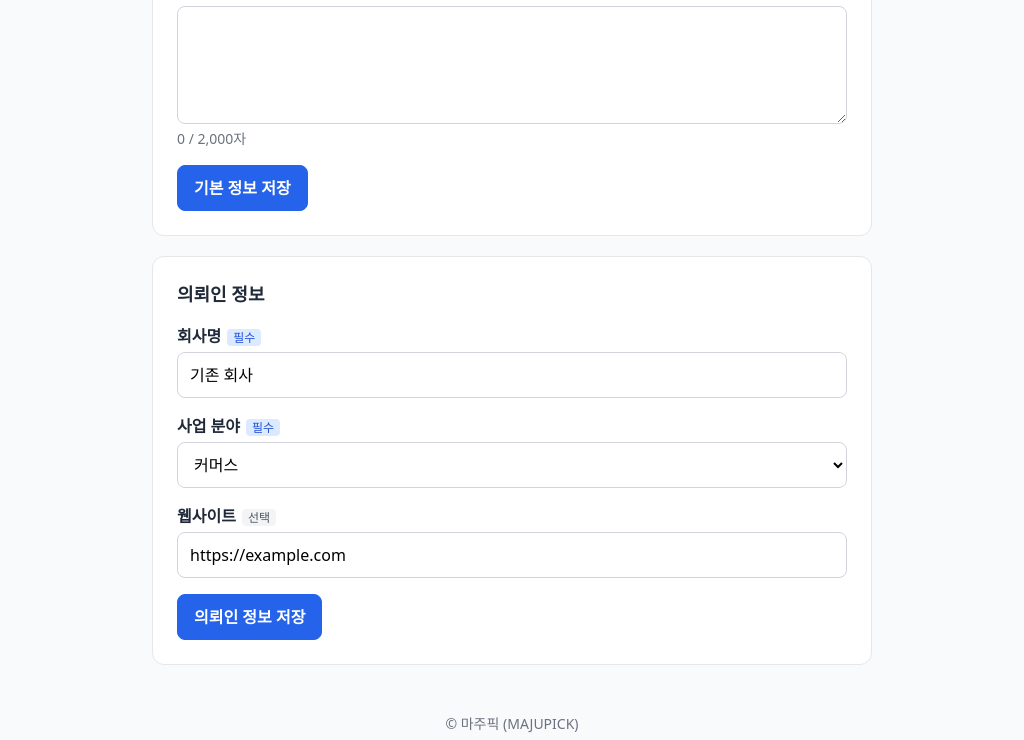
Scenario: client profile form › loads saved values and shows server validation and failure messages
(page scrolled)
Check: the field labelled "회사명" holds "기존 회사", box [177,352,847,398]
Check: the dropdown labelled "사업 분야" shows "커머스", box [177,442,847,488]
Step 1. Click the button "의뢰인 정보 저장" → (250, 617), box [177,594,322,640]
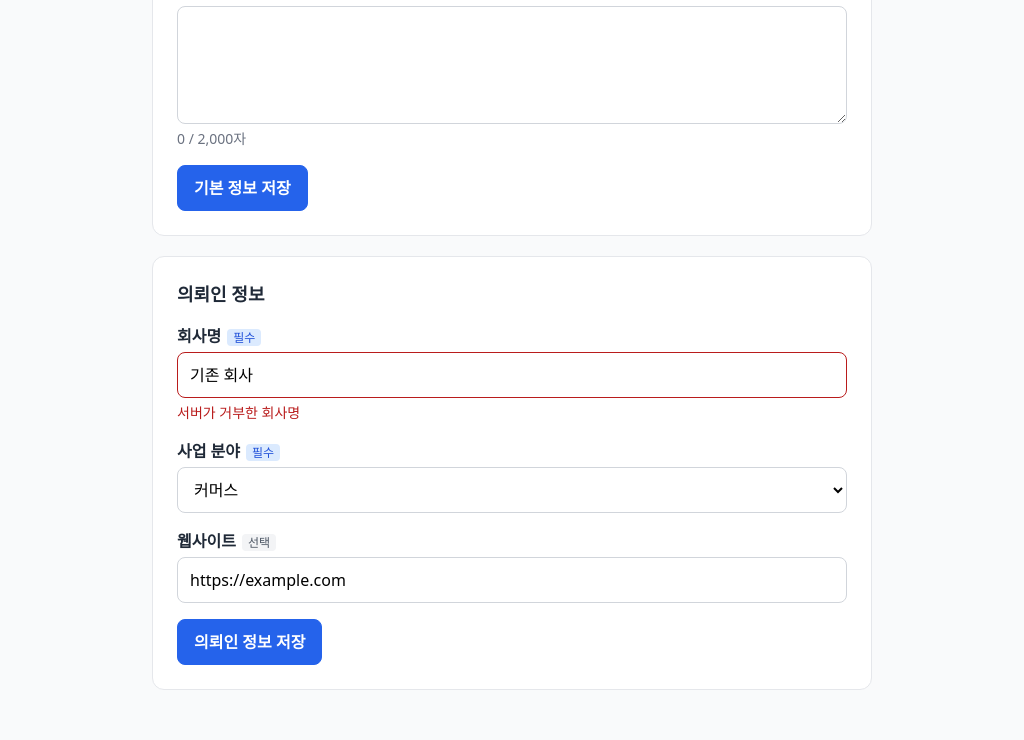
Check: the text "서버가 거부한 회사명" is shown, box [177,403,300,422]
Step 2. Click the button "의뢰인 정보 저장" → (250, 642), box [177,619,322,665]
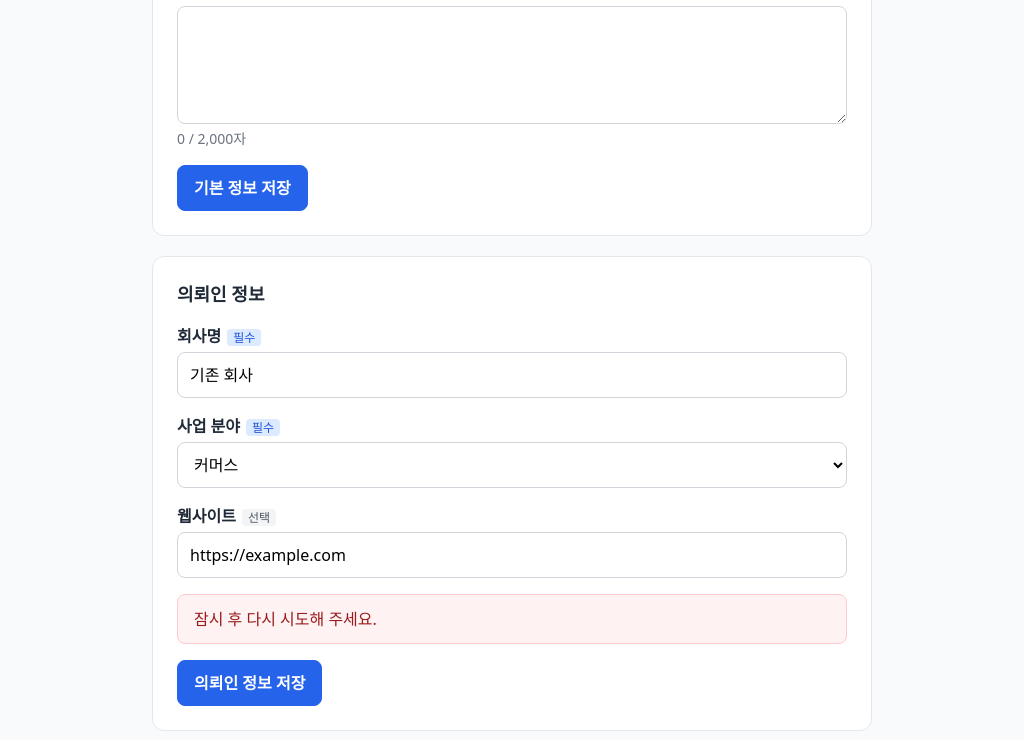
Check: the text "잠시 후 다시 시도해 주세요." is shown, box [177,594,847,644]
